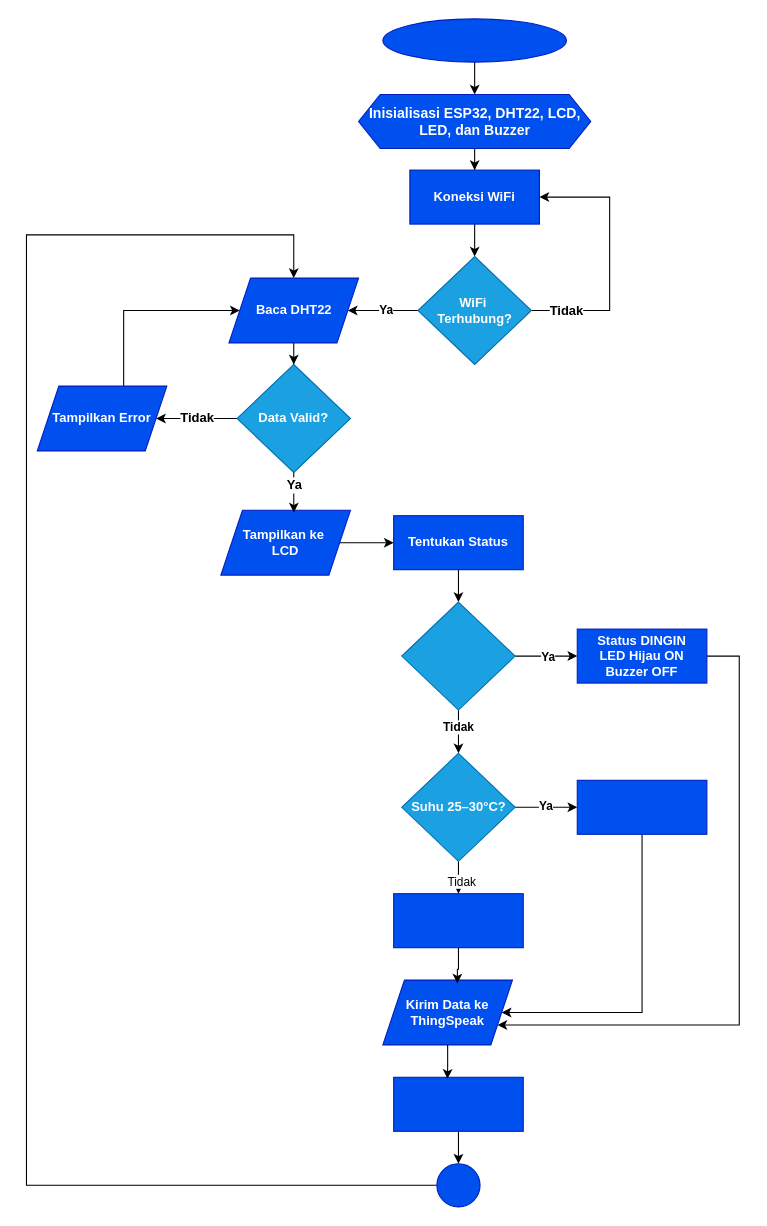
Some shapes in this 767 by 1226 pixel diagram are drawn without their labels. Here are the shapes that lost their labels. From the top down, the centre of each, then its label:
At point 474,40: "Start".
At point 458,655: "Suhu < 25°C?".
At point 641,806: "Status NORMAL LED Kuning ON Buzzer OFF".
At point 458,920: "Status PANAS LED Merah ON Buzzer ON".
At point 458,1103: "Delay 20 Detik".
